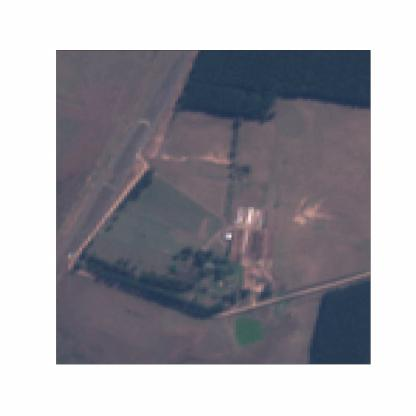silobolsa: (246, 205, 257, 222)
